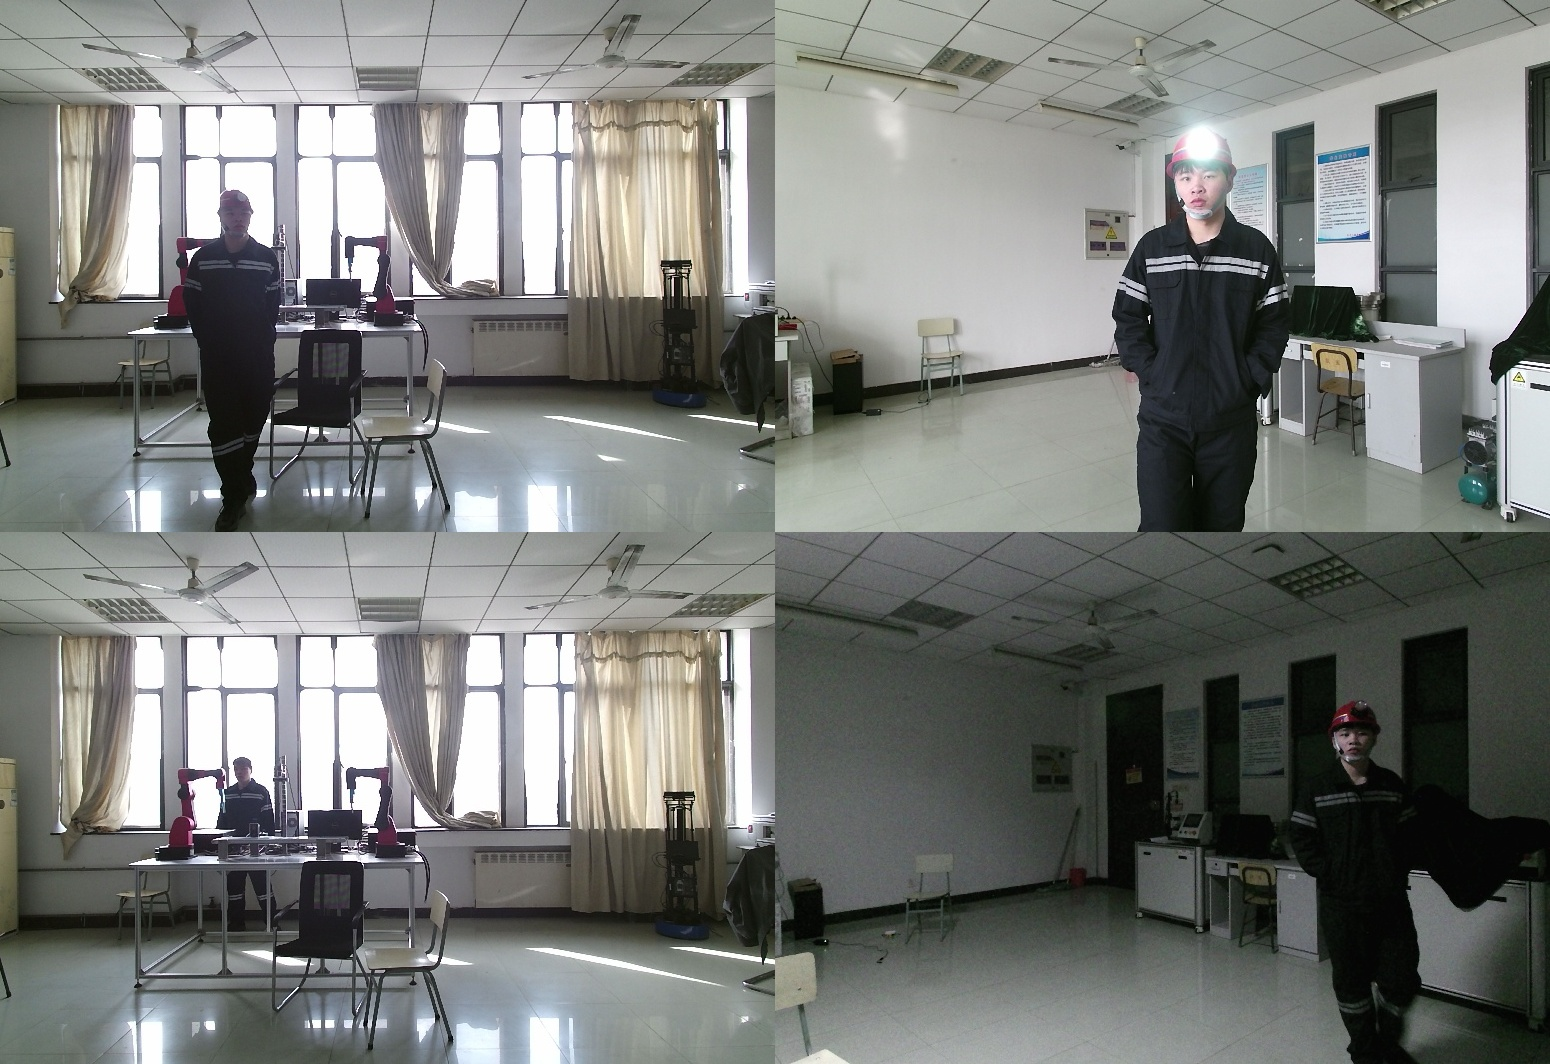person: (1113, 126, 1313, 532), (1287, 700, 1430, 1064), (179, 189, 290, 532), (216, 760, 280, 932)
